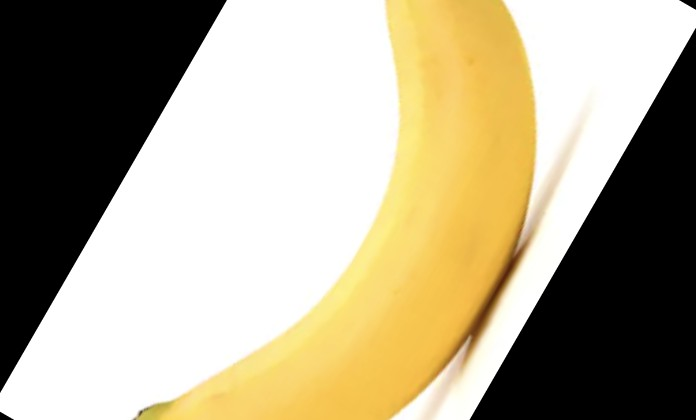fresh_banana: (133, 1, 537, 420)
